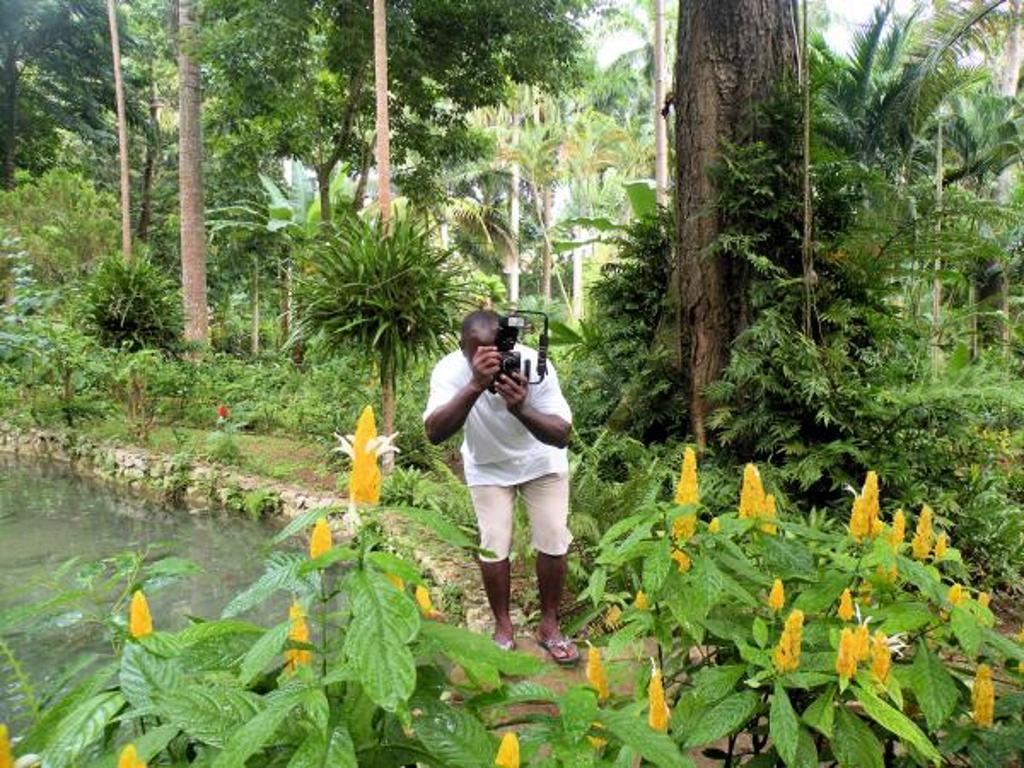face: (466, 324, 505, 374)
